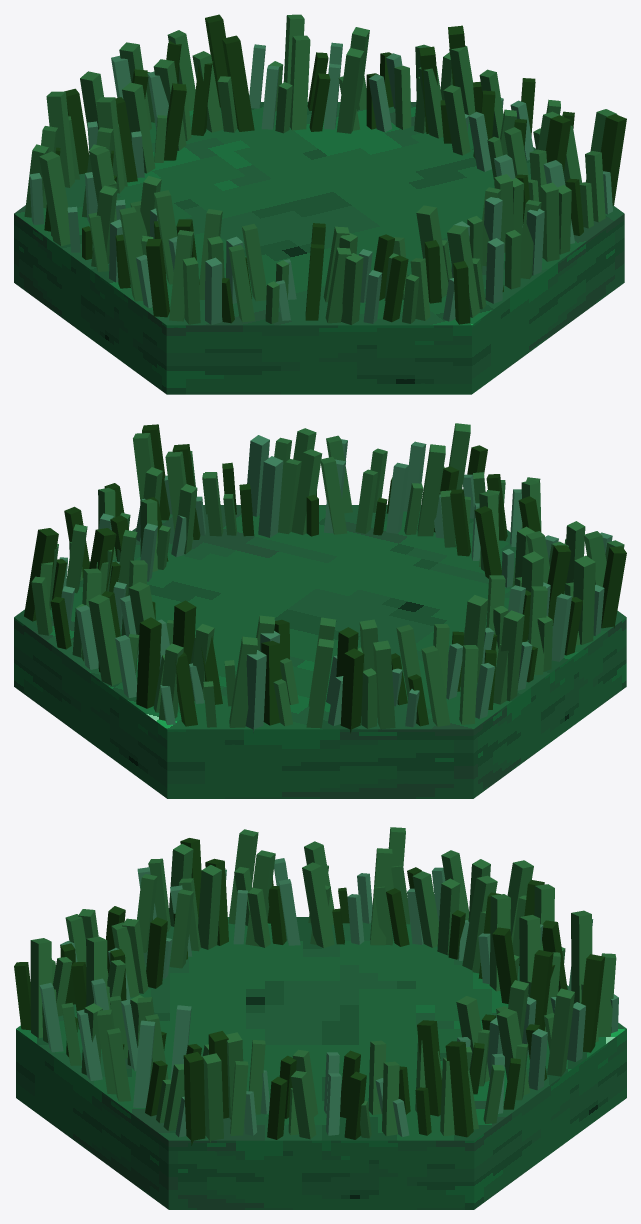
File: hex_grass_empty.gltf
3 views of the same model, one above another, from view 1: azimuth 30°, elevation 25°; view 2: azimuth 150°, elevation 25°; view 3: azimuth 270°, elevation 25° (orthographic).
Visible parts, largest first — view 1: Cube.001, grass; view 2: Cube.001, grass; view 3: Cube.001, grass.
Part boxes in pixels (bbox=[...]): Cube.001: bbox=[24, 14, 626, 324]; grass: bbox=[14, 102, 624, 394]; Cube.001: bbox=[24, 423, 626, 733]; grass: bbox=[14, 505, 626, 798]; Cube.001: bbox=[14, 827, 618, 1145]; grass: bbox=[16, 917, 626, 1209].
Bounding box in the file's own units: 1.82 × 0.569 × 2.01.
4 materials, 1 textured.
